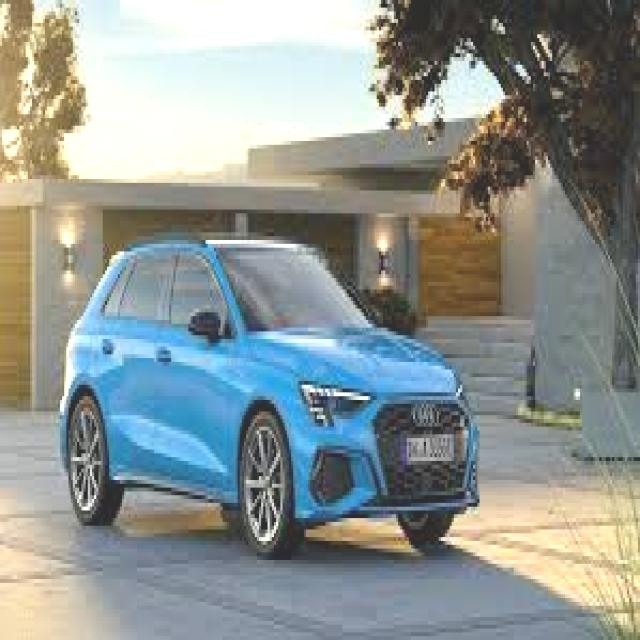SUV: (60, 232, 481, 560)
